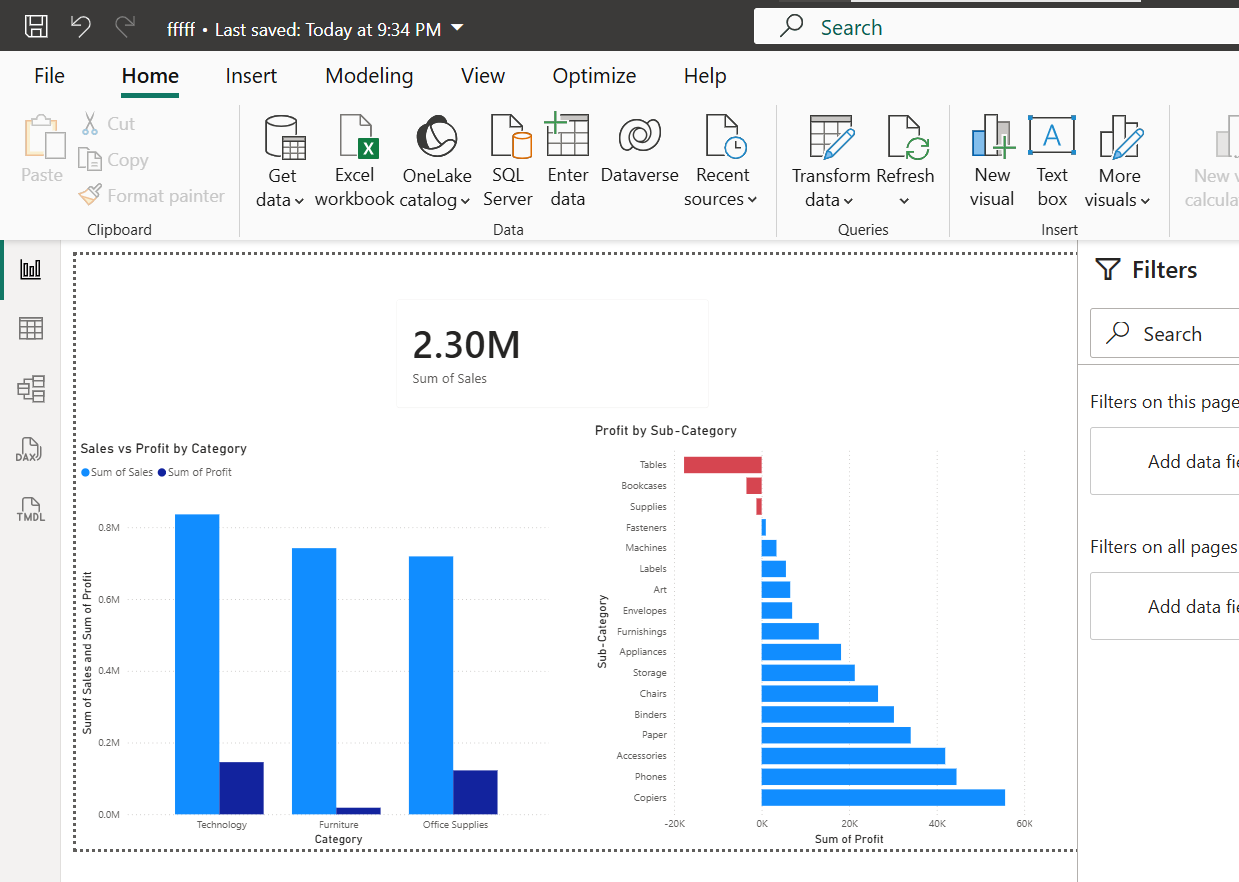

This screenshot's page, from the dashboard's own definition file:
{"tool":"powerbi","page":{"name":"Page 1","canvas":[1280,720],"ordinal":0},"visuals":[{"type":"clusteredColumnChart","title":"Sales vs Profit by Category","fields":{"Category":["Sample - Superstore.Category"],"Y":["Sum(Sample - Superstore.Sales)","Sum(Sample - Superstore.Profit)"]},"box":[0,223,578.3,497],"z":0},{"type":"barChart","title":"Profit by Sub-Category","fields":{"Category":["Sample - Superstore.Sub-Category"],"Y":["Sum(Sample - Superstore.Profit)"]},"box":[623.6,202.2,540.5,517.8],"z":1000},{"type":"cardVisual","fields":{"Data":["Sum(Sample - Superstore.Sales)"]},"box":[370.4,35.9,413.9,166.3],"z":2000}]}

Visuals, with their boxes on the page's 1280x720 design canvas (x1, y1, x2, y2). These are canvas units, not pixel positions in the 1239x882 screenshot, which may show the page scaled, cropped or inside an application window:
"Sales vs Profit by Category" clusteredColumnChart: box=[0, 223, 578, 720]
"Profit by Sub-Category" barChart: box=[624, 202, 1164, 720]
cardVisual - Sum(Sample - Superstore.Sales): box=[370, 36, 784, 202]
